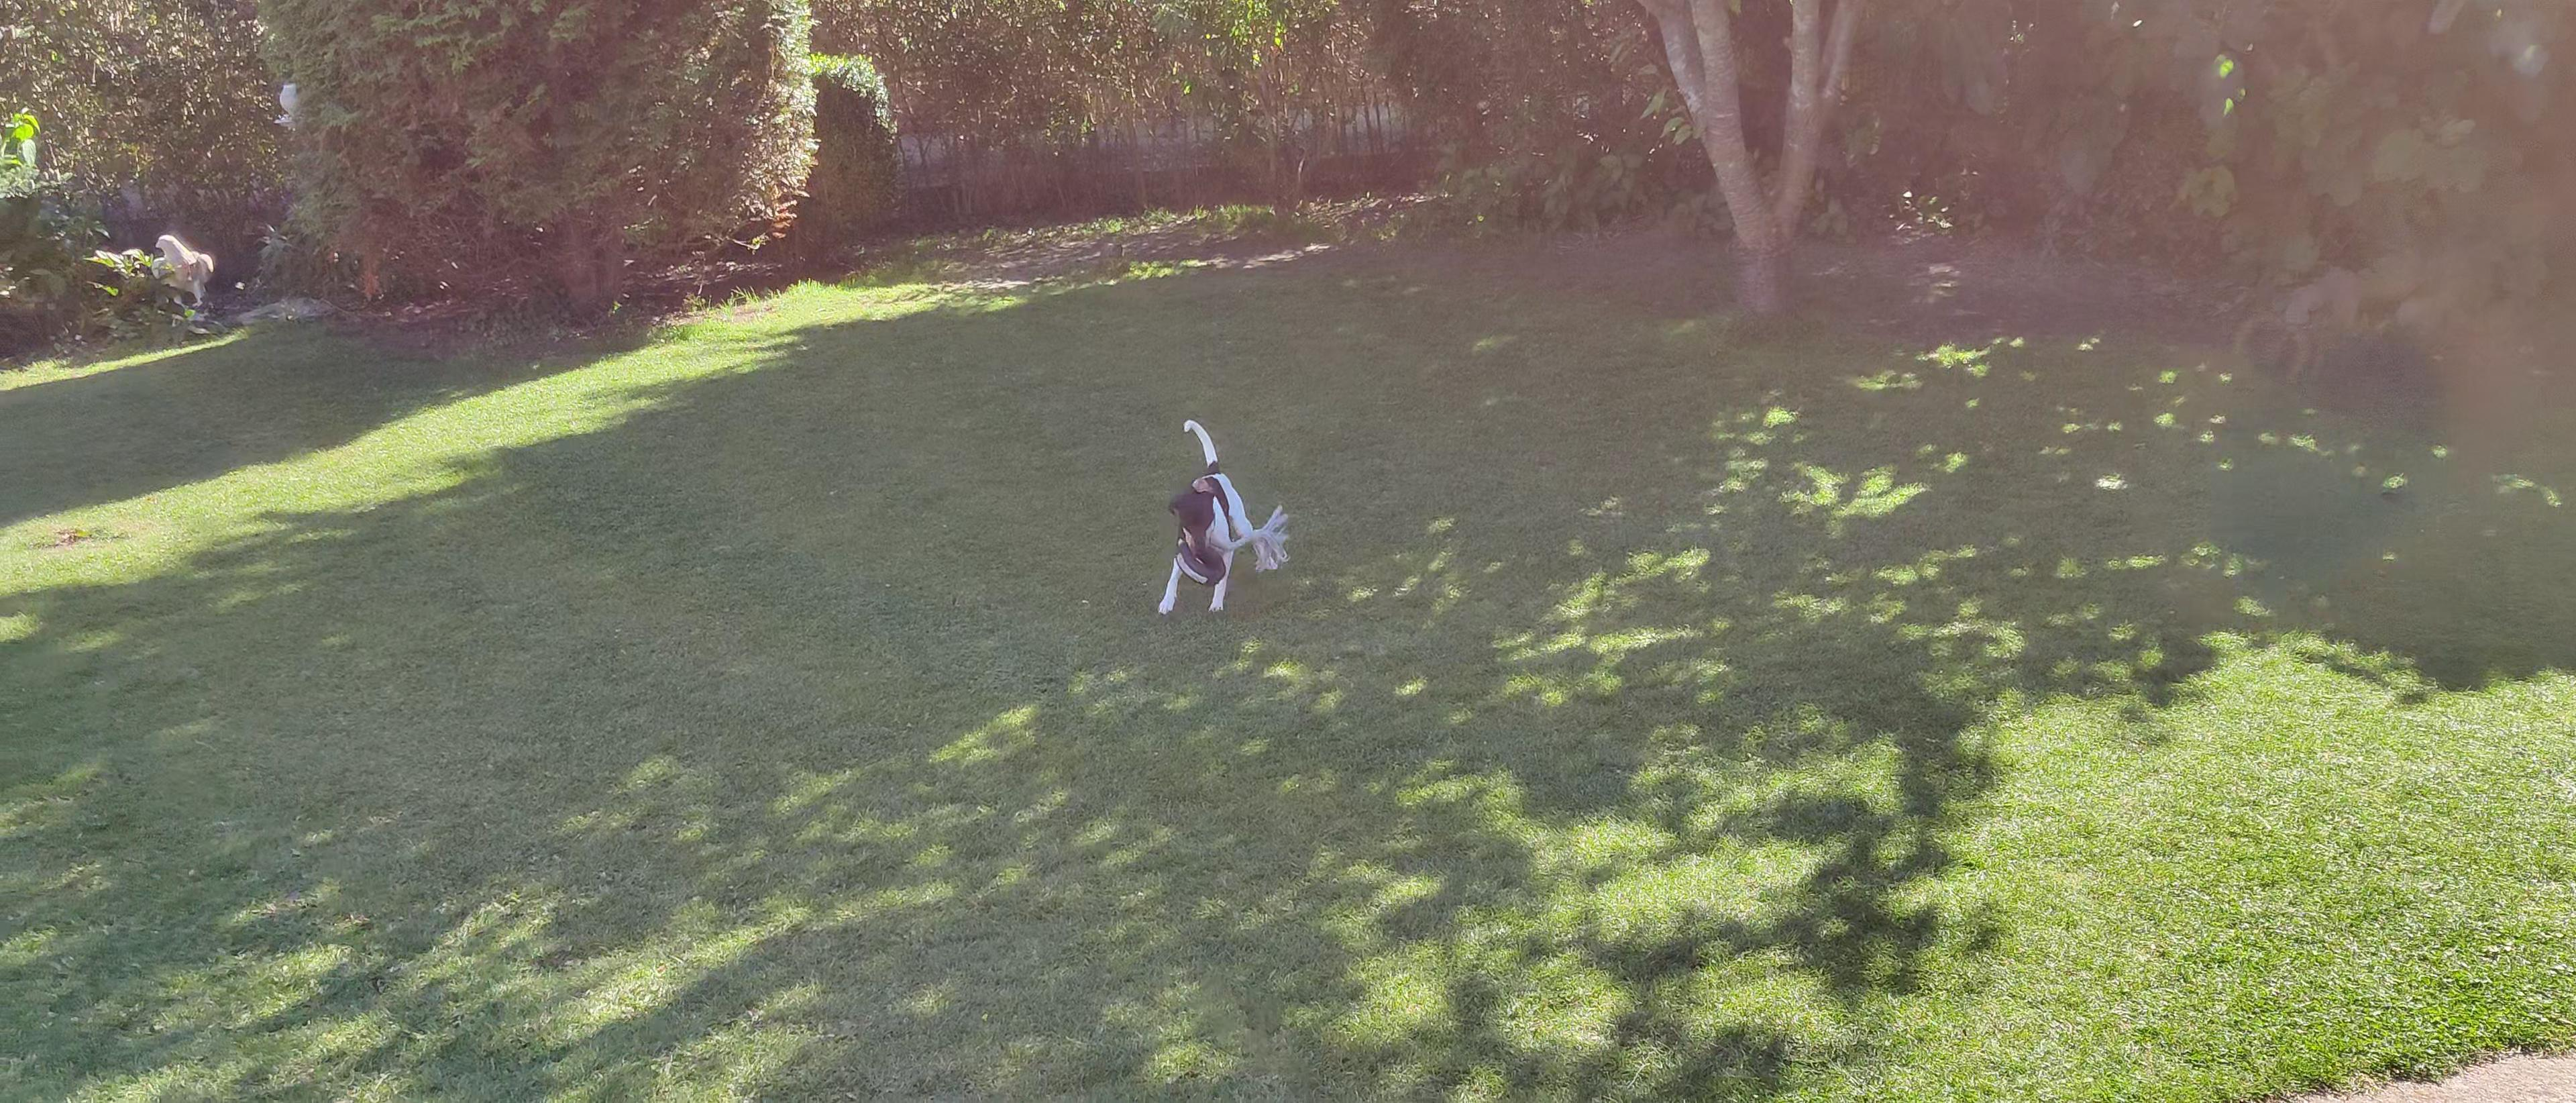Dog: (1137, 411, 1267, 621)
